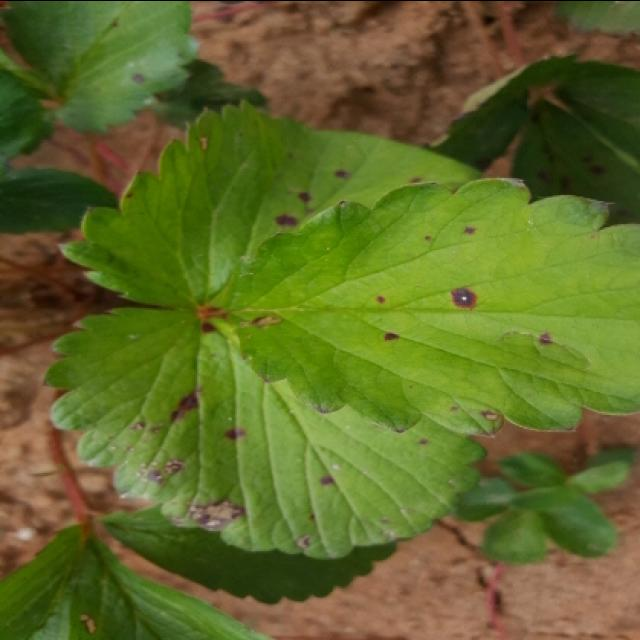Leaf Spot: (202, 175, 638, 438), (43, 307, 487, 558), (56, 97, 484, 310), (3, 2, 199, 134)
